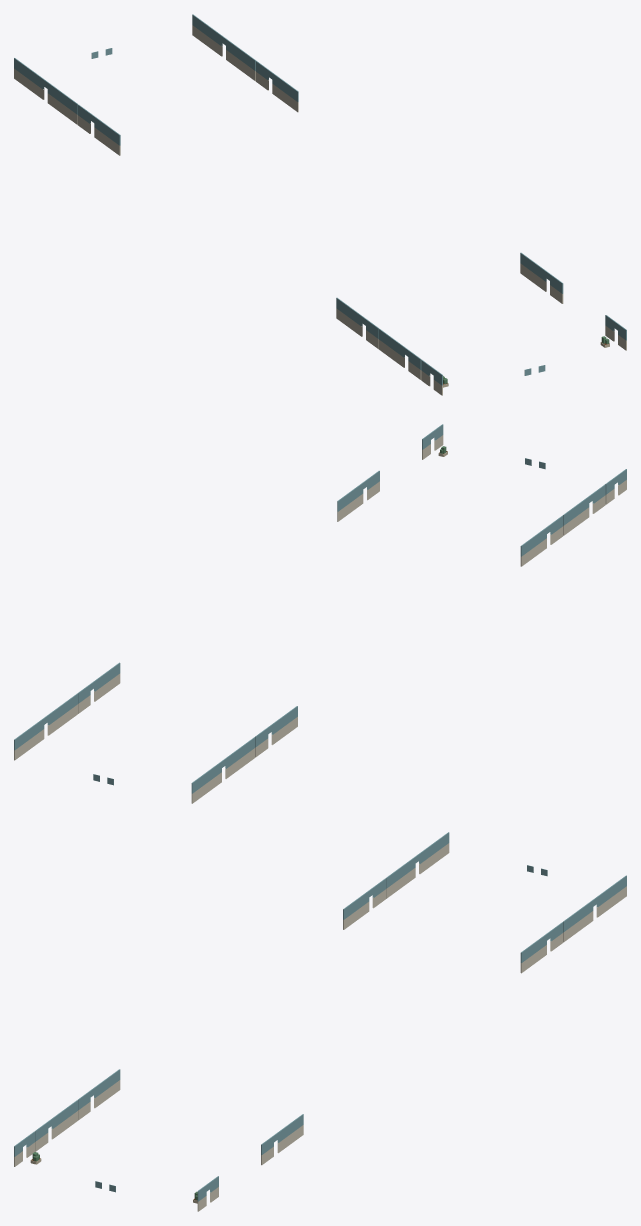
Rendered from D04_STARBOARD_CENTRAL_COURT_PATCH_r001.glb.
3 renders of one model, top to bottom at view 1: azimuth 30°, elevation 25°; view 2: azimuth 150°, elevation 25°; view 3: azimuth 330°, elevation 25°, orthographic.
Visible parts, largest first — view 1: SCK_D04HC5_east_GlassUpper, SCK_D04HC5_west_GlassUpper, SCK_D04HC5_east_PrivacyScreen, SCK_D04HC5_west_PrivacyScreen; view 2: SCK_D04HC5_east_GlassUpper, SCK_D04HC5_west_GlassUpper, SCK_D04HC5_west_PrivacyScreen, SCK_D04HC5_east_PrivacyScreen; view 3: SCK_D04HC5_west_GlassUpper, SCK_D04HC5_east_GlassUpper, SCK_D04HC5_west_PrivacyScreen, SCK_D04HC5_east_PrivacyScreen.
Boxes of the visible parts, x1=… form: SCK_D04HC5_east_GlassUpper: x1=14, y1=58, x2=77, y2=114; SCK_D04HC5_west_GlassUpper: x1=192, y1=14, x2=256, y2=70; SCK_D04HC5_east_PrivacyScreen: x1=14, y1=68, x2=77, y2=124; SCK_D04HC5_west_PrivacyScreen: x1=192, y1=25, x2=255, y2=81; SCK_D04HC5_east_GlassUpper: x1=191, y1=737, x2=255, y2=793; SCK_D04HC5_west_GlassUpper: x1=14, y1=693, x2=77, y2=750; SCK_D04HC5_west_PrivacyScreen: x1=14, y1=704, x2=77, y2=760; SCK_D04HC5_east_PrivacyScreen: x1=191, y1=748, x2=255, y2=803; SCK_D04HC5_west_GlassUpper: x1=563, y1=875, x2=626, y2=931; SCK_D04HC5_east_GlassUpper: x1=385, y1=832, x2=449, y2=888; SCK_D04HC5_west_PrivacyScreen: x1=563, y1=886, x2=626, y2=942; SCK_D04HC5_east_PrivacyScreen: x1=386, y1=843, x2=449, y2=898.
Size of the model in its own units: 37.2 by 3.96 by 151.
5 materials, 3 textured.
